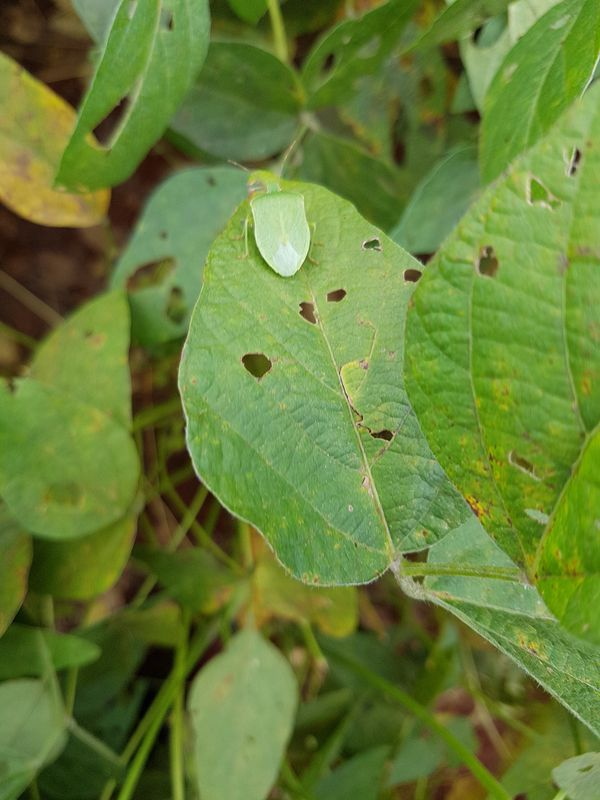Nezara_viridula_adulto: (219, 153, 338, 286)
